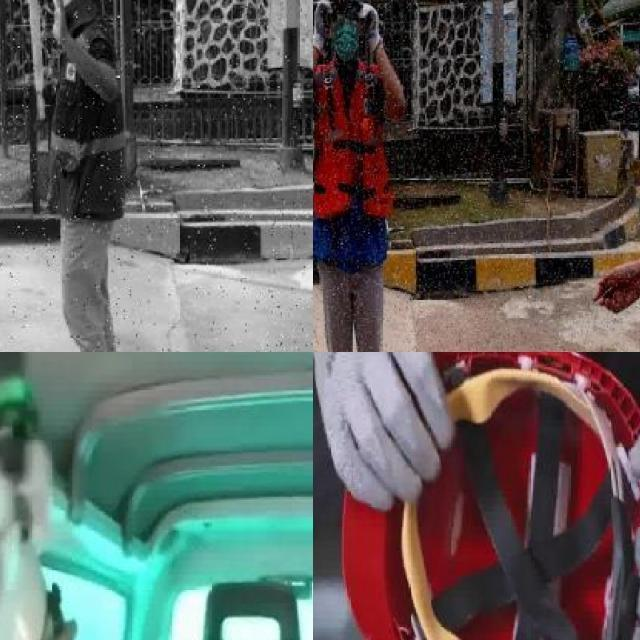apron: (313, 352, 472, 515), (358, 6, 384, 54), (313, 0, 332, 55)
